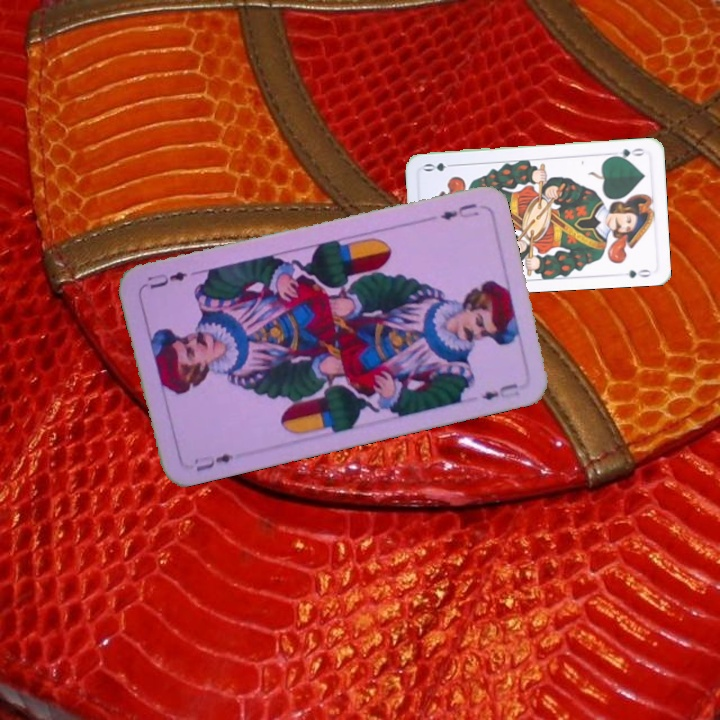EU: (192, 449, 236, 475), (436, 199, 482, 223)
GO: (608, 144, 648, 162)
